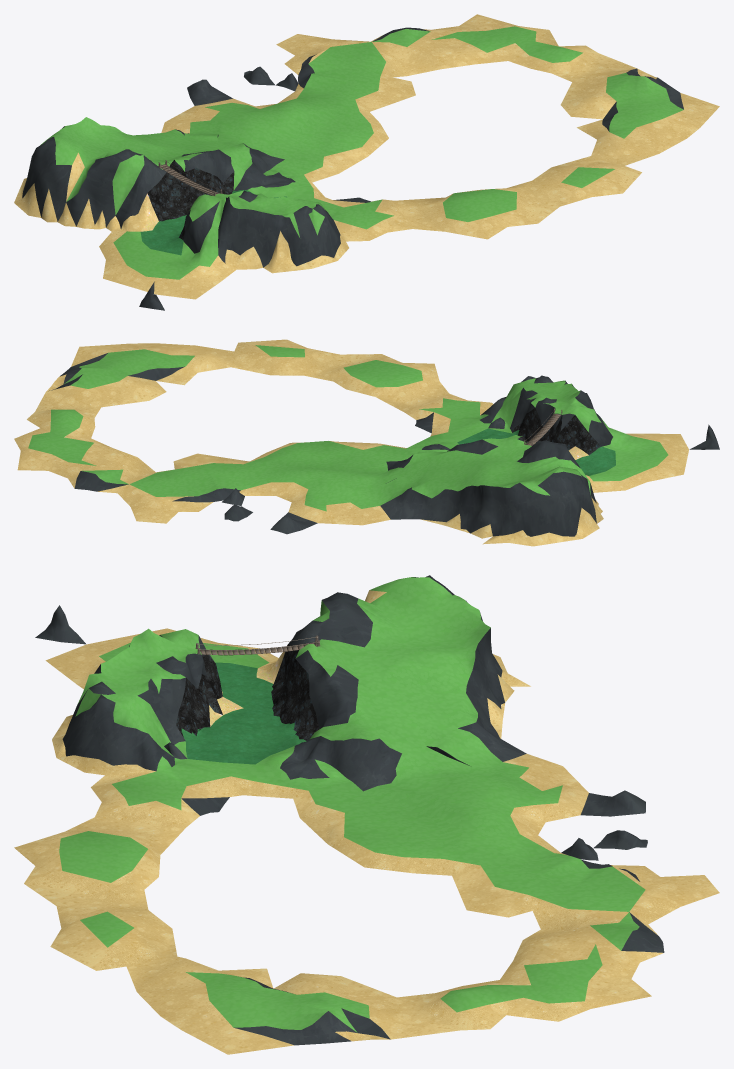
The model's file is Fixed Island Full HigherPoly.fbx.
The picture shows the model from 3 angles, top to bottom: view 1: azimuth 30°, elevation 25°; view 2: azimuth 150°, elevation 25°; view 3: azimuth 270°, elevation 25°; orthographic projection. The views are drawn at different scales.
Visible parts, largest first — view 1: Map Rework; view 2: Map Rework; view 3: Map Rework.
Part boxes in pixels (bbox=[...]): Map Rework: bbox=[14, 14, 719, 310]; Map Rework: bbox=[14, 339, 719, 546]; Map Rework: bbox=[14, 575, 719, 1054].
Bounding box in the file's own units: 3404 × 336 × 2376.
7 materials, 7 textured.
